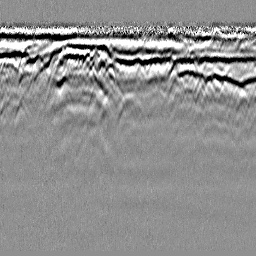cavity: (116, 91, 145, 124)
